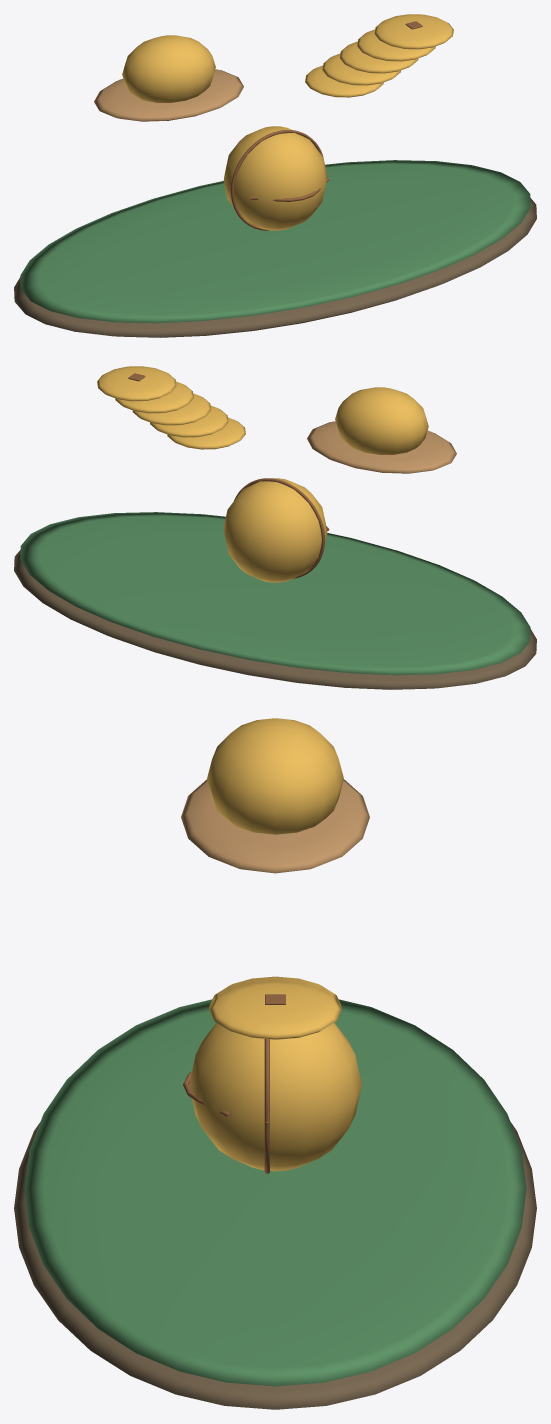
File: complete-first-king-coin-game.glb
The picture shows the model from 3 angles, top to bottom: view 1: azimuth 30°, elevation 25°; view 2: azimuth 150°, elevation 25°; view 3: azimuth 270°, elevation 25°; orthographic projection. The views are drawn at different scales.
Parts seen in each view (by area): view 1: complete-first-king-coin-game_surface_01, complete-first-king-coin-game_surface_03, complete-first-king-coin-game_surface_00, complete-first-king-coin-game_surface_02, complete-first-king-coin-game_surface_04; view 2: complete-first-king-coin-game_surface_01, complete-first-king-coin-game_surface_03, complete-first-king-coin-game_surface_00, complete-first-king-coin-game_surface_02, complete-first-king-coin-game_surface_04; view 3: complete-first-king-coin-game_surface_01, complete-first-king-coin-game_surface_03, complete-first-king-coin-game_surface_00, complete-first-king-coin-game_surface_02, complete-first-king-coin-game_surface_04.
Part boxes in pixels (x1,y1,x2,y2): complete-first-king-coin-game_surface_01: (20, 160, 530, 323); complete-first-king-coin-game_surface_03: (122, 14, 453, 230); complete-first-king-coin-game_surface_00: (14, 198, 536, 337); complete-first-king-coin-game_surface_02: (94, 69, 243, 121); complete-first-king-coin-game_surface_04: (231, 21, 422, 230); complete-first-king-coin-game_surface_01: (20, 512, 530, 675); complete-first-king-coin-game_surface_03: (97, 366, 428, 582); complete-first-king-coin-game_surface_00: (14, 550, 536, 689); complete-first-king-coin-game_surface_02: (307, 421, 456, 473); complete-first-king-coin-game_surface_04: (128, 373, 329, 578); complete-first-king-coin-game_surface_01: (24, 999, 526, 1386); complete-first-king-coin-game_surface_03: (189, 718, 361, 1171); complete-first-king-coin-game_surface_00: (14, 1122, 536, 1409); complete-first-king-coin-game_surface_02: (181, 779, 369, 873); complete-first-king-coin-game_surface_04: (183, 994, 285, 1173).
Bounding box in the file's own units: 4.56 × 2.21 × 2.5.
